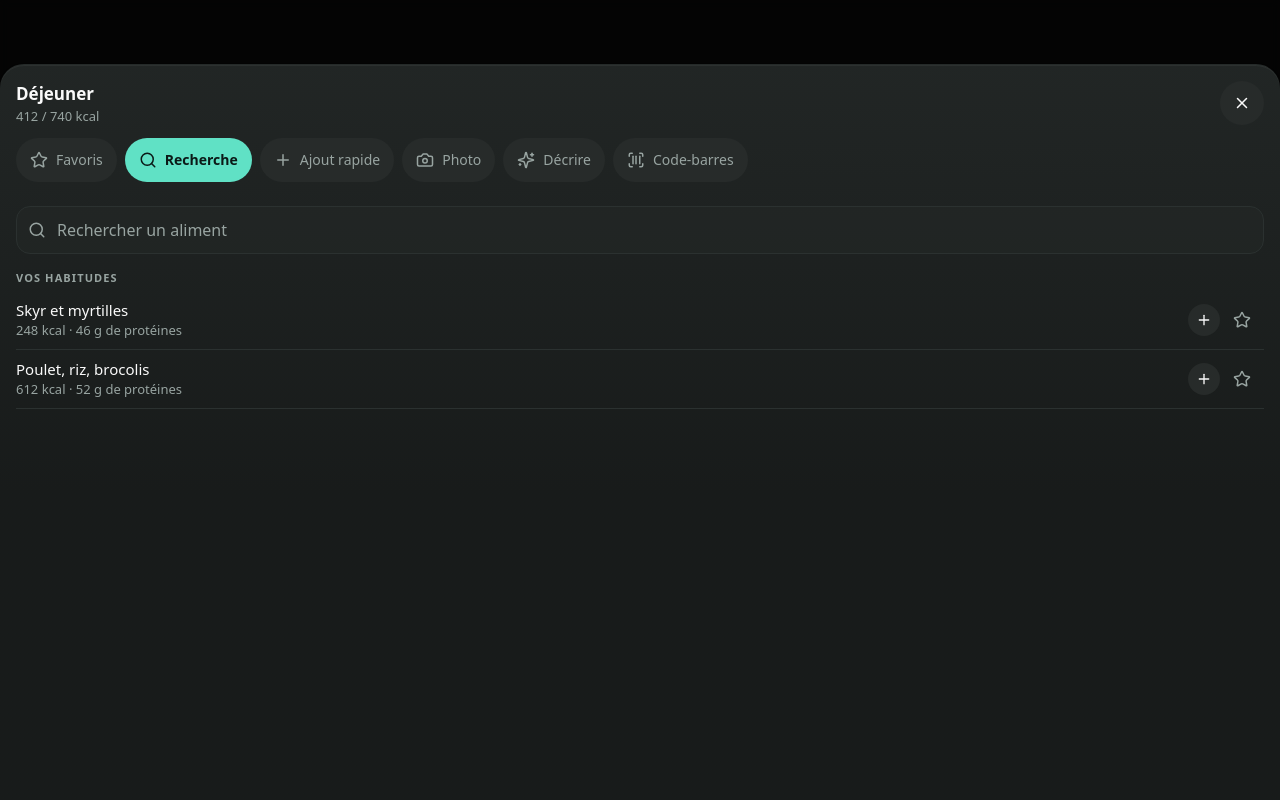
Test: AddSheet › says why the two model-backed tabs are dead without a key
Click the tab "Photo".
click(449, 160)  # box [402,138,495,182]
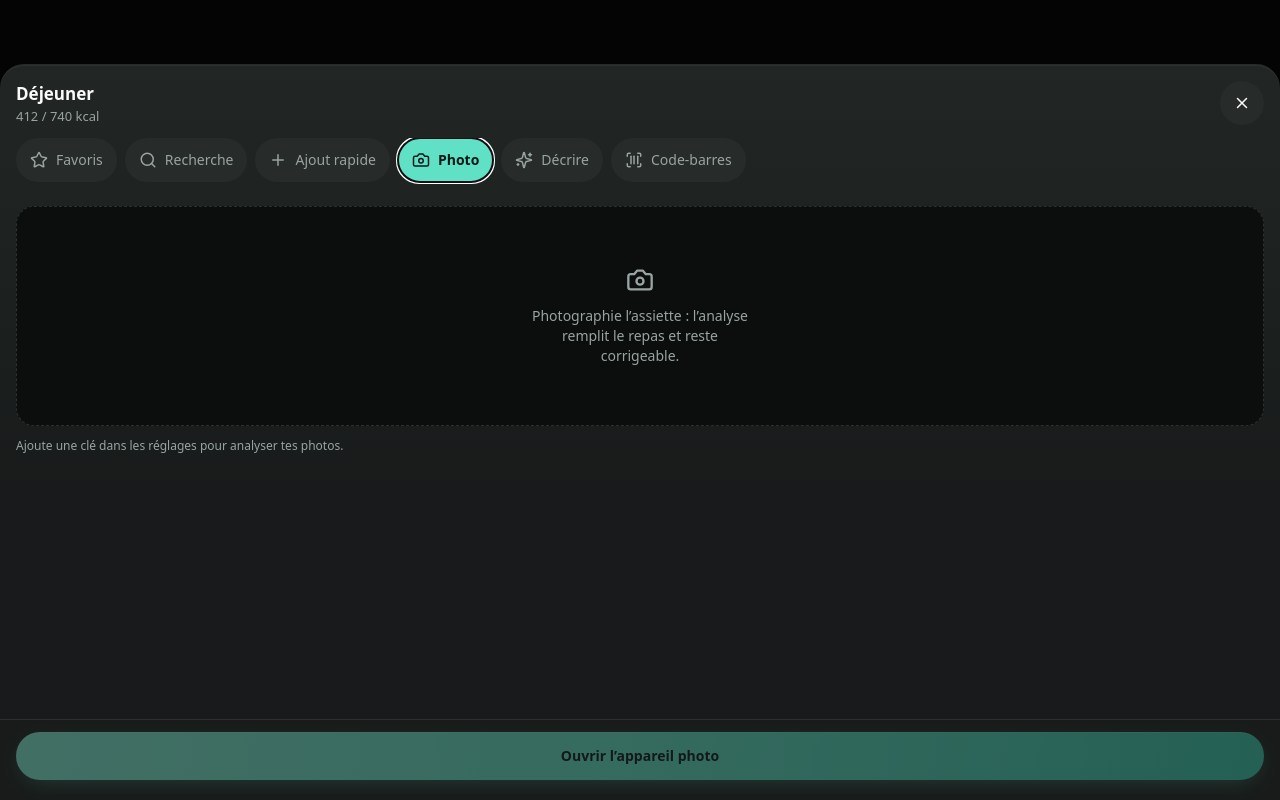
Check: the text "Ajoute une clé dans les réglages pour analyser tes photos." is shown, box [16,437,343,454]
Check: the button "Ouvrir l’appareil photo" is disabled, box [16,732,1264,780]
